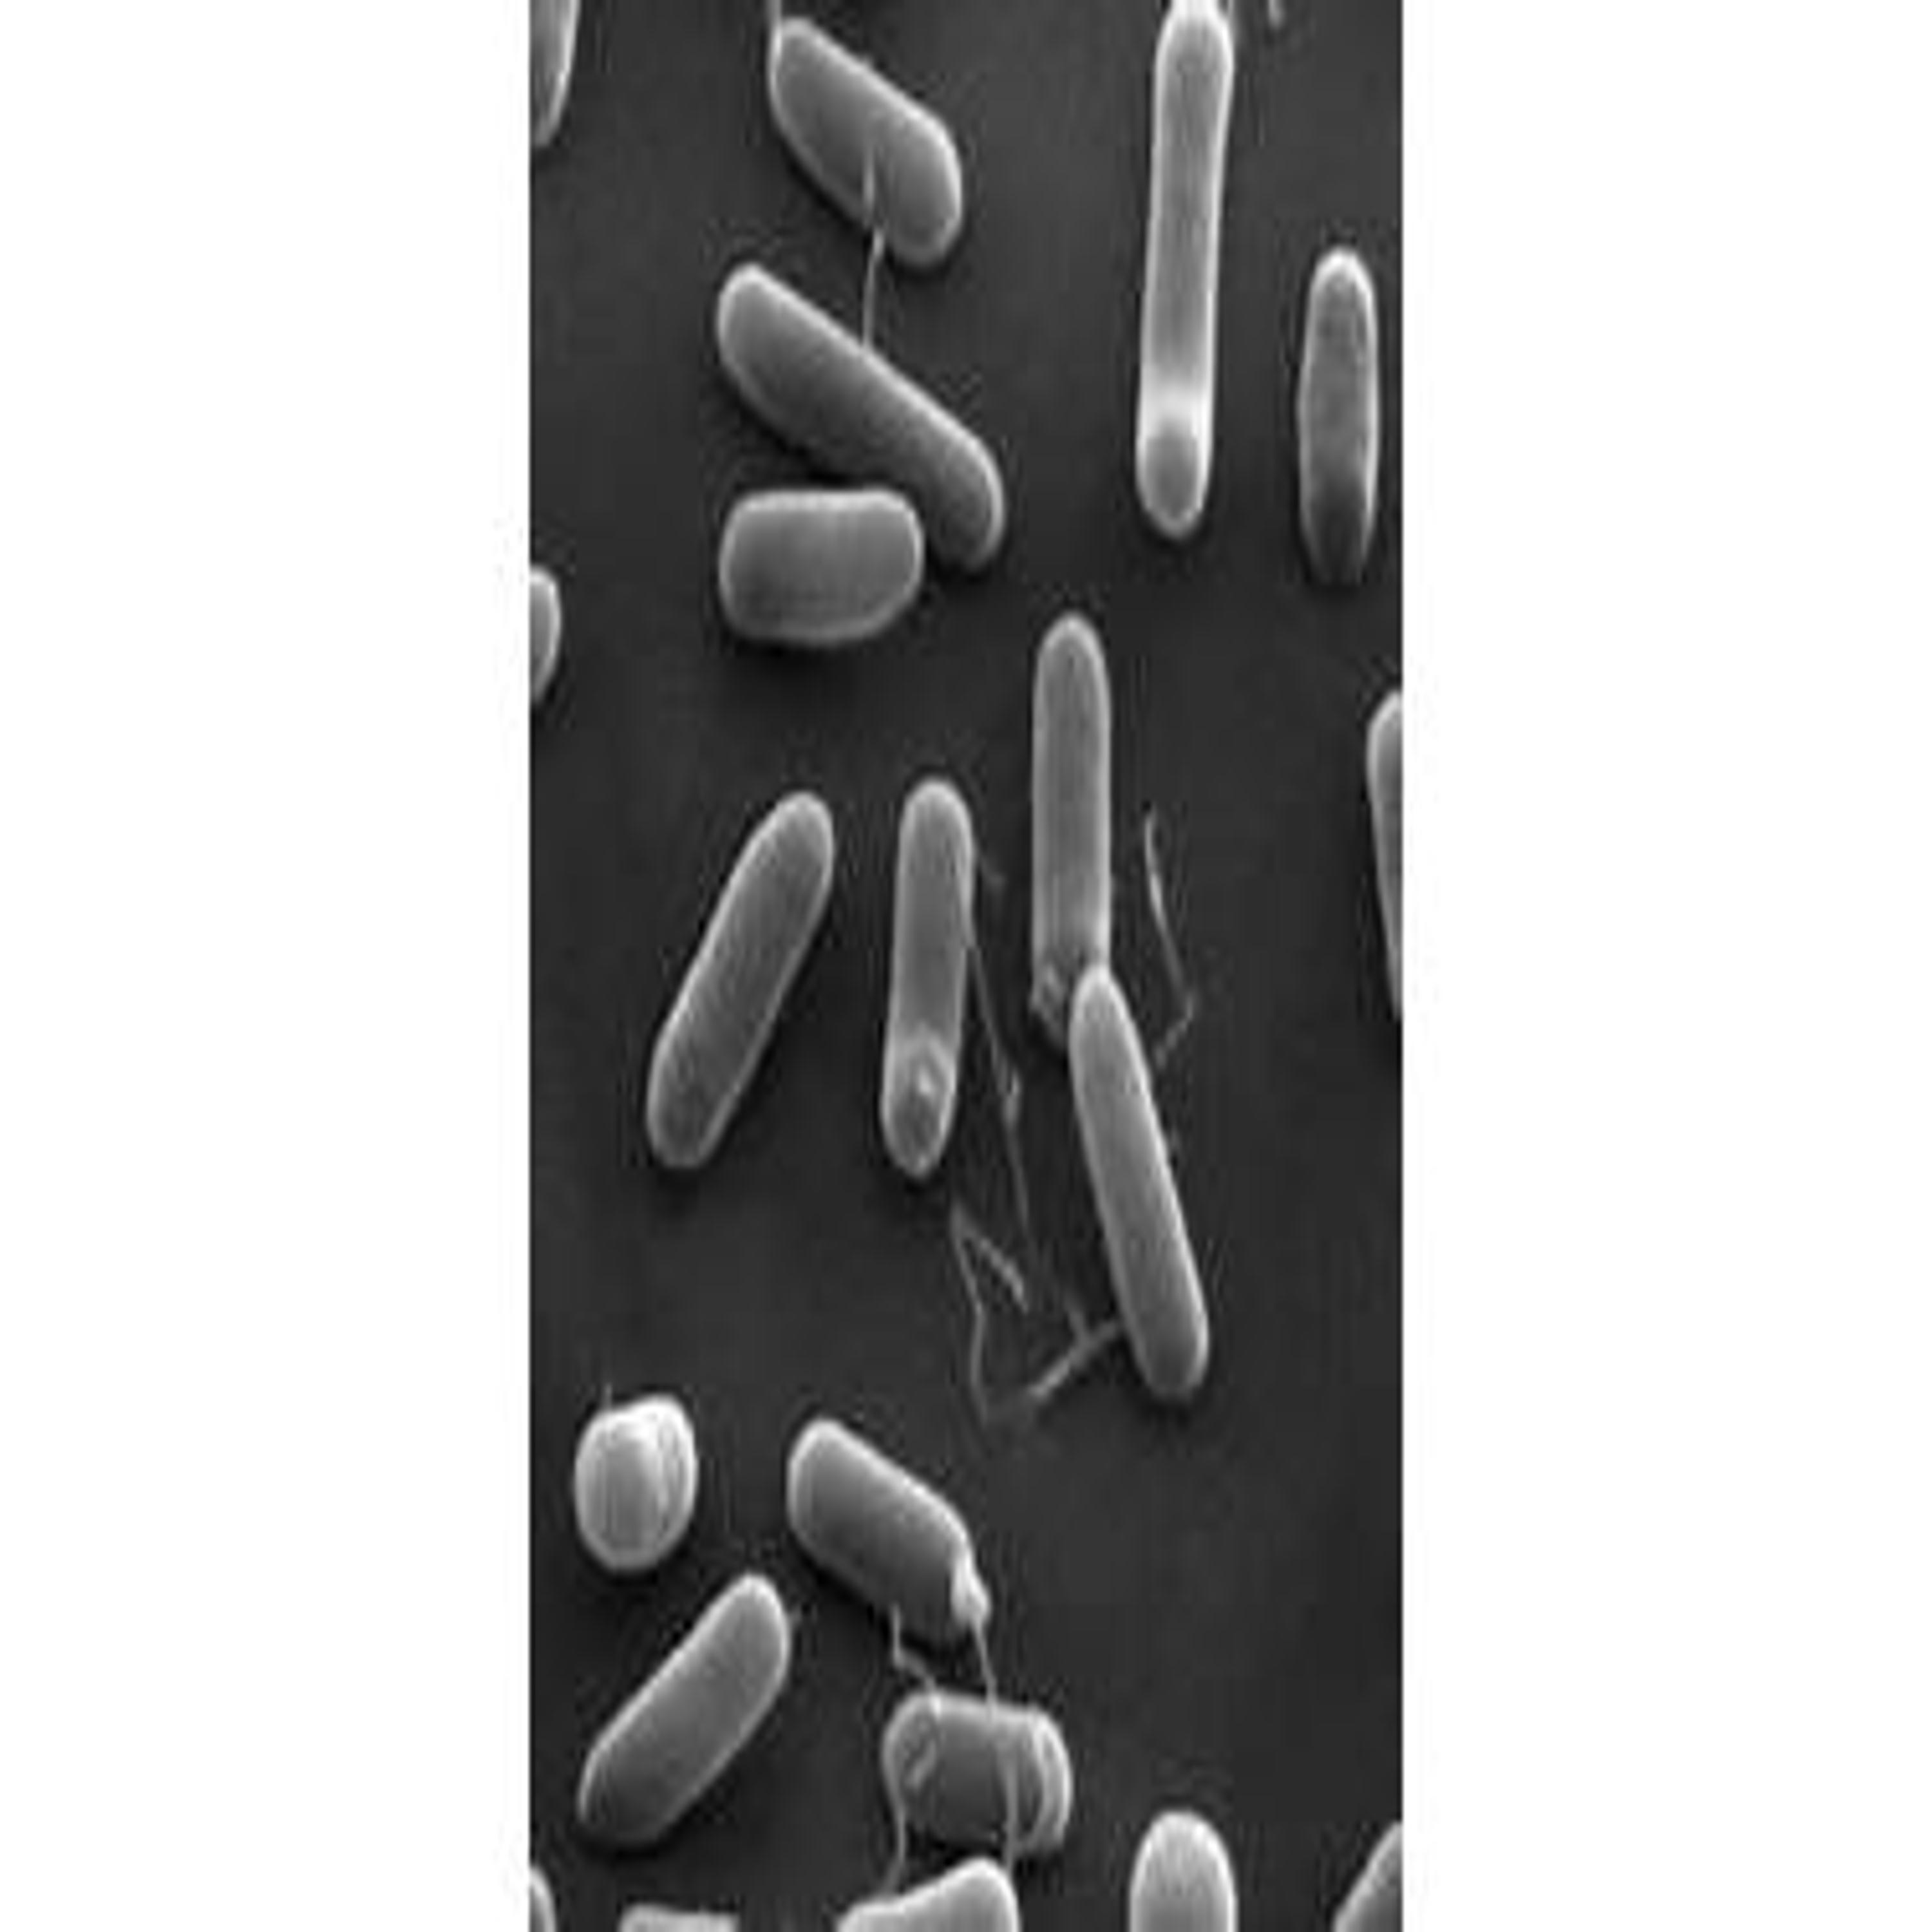salmonella_typhi5: (649, 793, 844, 1171), (1065, 966, 1223, 1405), (789, 1407, 1010, 1644), (872, 775, 973, 1177)
